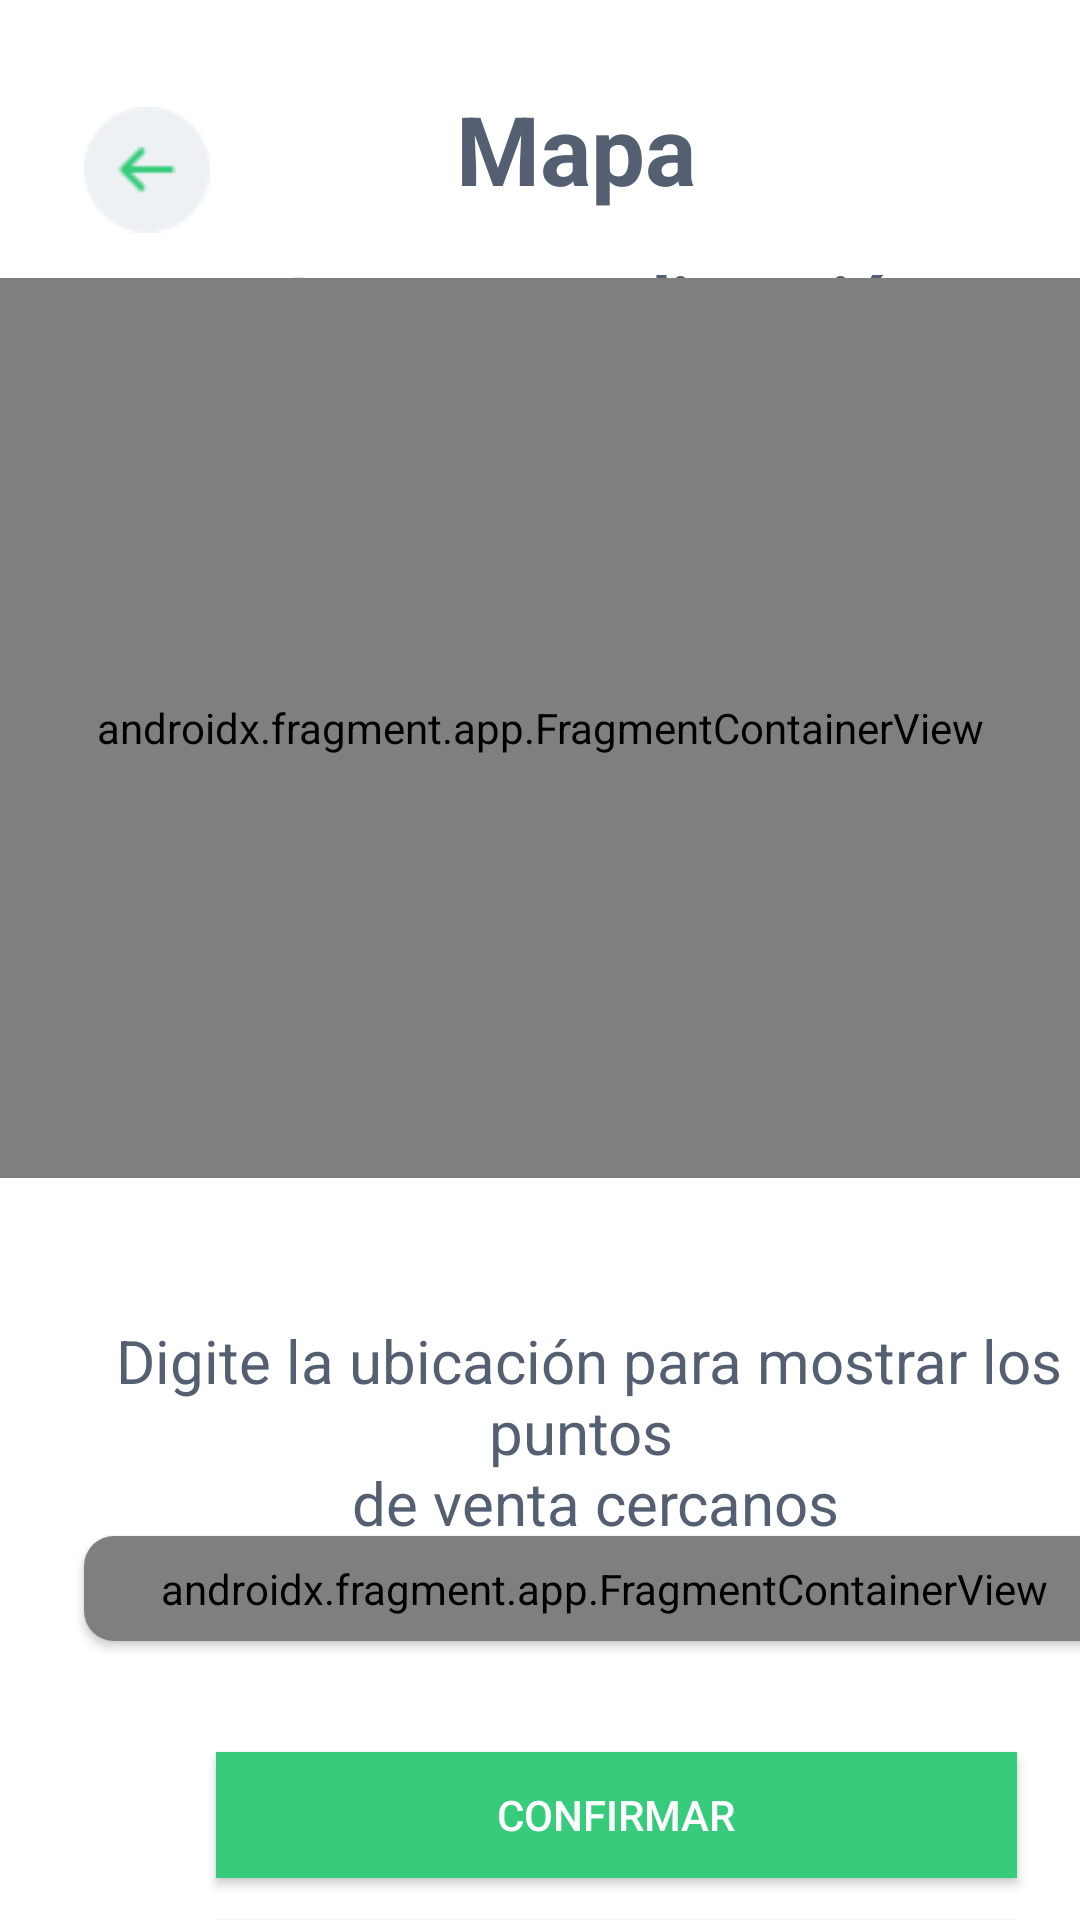

Where icons sit on this 1080px x 1920px app screen, as (x1, y1, x2, y2):
Regresar: (84, 107, 210, 233)
